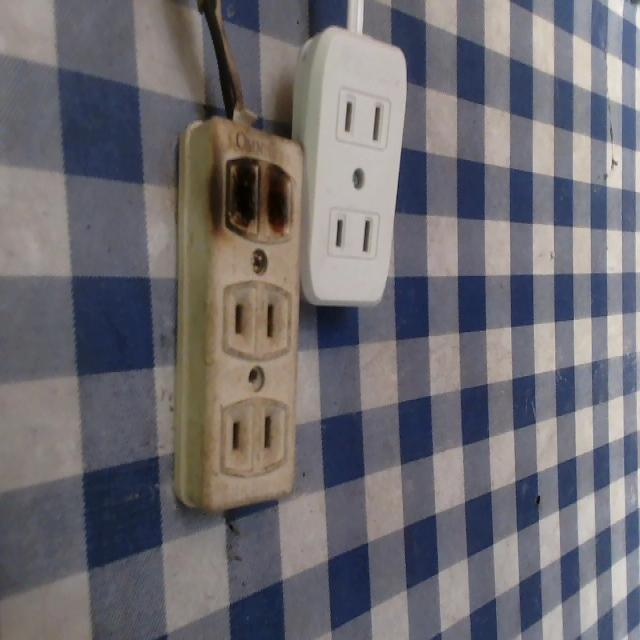-: (204, 143, 310, 240)
